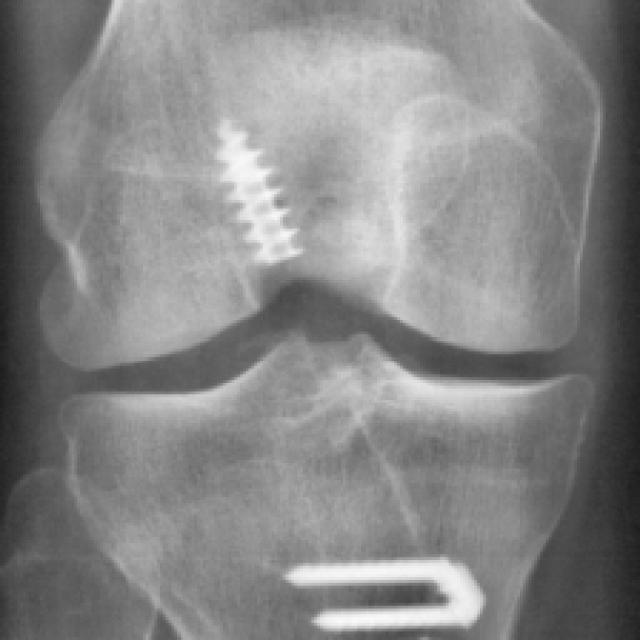femur: (36, 0, 604, 371)
tibia: (58, 328, 595, 640)
